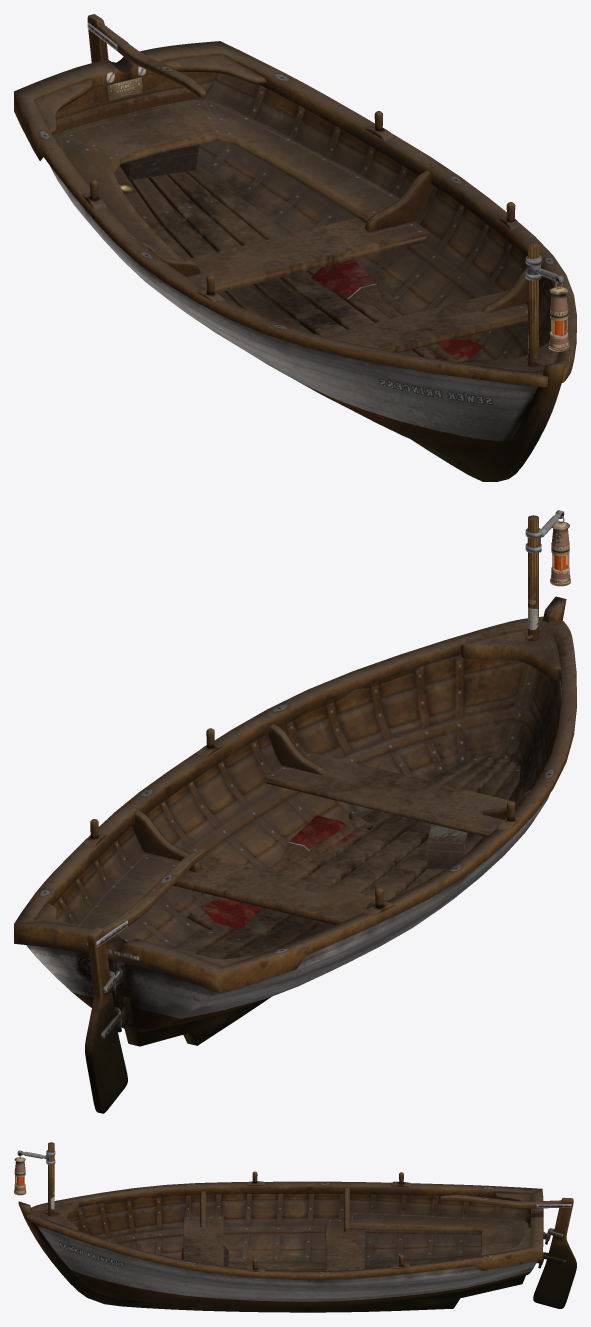
3 views of the same model, one above another, from view 1: azimuth 30°, elevation 25°; view 2: azimuth 150°, elevation 25°; view 3: azimuth 270°, elevation 25° (orthographic). The views are drawn at different scales.
Parts seen in each view (by area): view 1: boatfoundation_low, trim_low, rearbench_low, bottomboards_low, benches_low, oar_low, braces_low, rearbraces_low, chest_low, tiller_low, pegs_low, lamppost_low (+3 smaller); view 2: boatfoundation_low, trim_low, benches_low, bottomboards_low, rudder_low, oar_low, rearbench_low, braces_low, bracefront_low, tiller_low, chest_low, pegs_low (+2 smaller); view 3: boatfoundation_low, trim_low, benches_low, rearbench_low, rudder_low, bottomboards_low, tiller_low, pegs_low, bracefront_low, rearbraces_low, braces_low, lamppost_low (+3 smaller).
Part boxes in pixels (x1,y1,x2,y2): boatfoundation_low: [50, 71, 566, 481]; trim_low: [14, 41, 576, 387]; rearbench_low: [56, 99, 399, 260]; bottomboards_low: [114, 163, 479, 452]; benches_low: [184, 217, 527, 352]; oar_low: [311, 259, 483, 362]; braces_low: [140, 170, 527, 312]; rearbraces_low: [34, 55, 266, 134]; chest_low: [120, 144, 198, 180]; tiller_low: [98, 24, 206, 98]; pegs_low: [82, 111, 520, 301]; lamppost_low: [528, 242, 538, 366]; boatfoundation_low: [26, 596, 566, 1046]; trim_low: [14, 616, 576, 993]; benches_low: [173, 751, 514, 925]; bottomboards_low: [173, 755, 520, 959]; rudder_low: [85, 927, 127, 1113]; oar_low: [187, 812, 373, 929]; rearbench_low: [76, 852, 189, 935]; braces_low: [132, 724, 530, 909]; bracefront_low: [460, 629, 560, 680]; tiller_low: [102, 848, 206, 934]; chest_low: [427, 824, 473, 869]; pegs_low: [83, 728, 521, 915]; boatfoundation_low: [18, 1194, 536, 1312]; trim_low: [27, 1181, 543, 1279]; benches_low: [183, 1215, 364, 1270]; rearbench_low: [350, 1212, 528, 1255]; rudder_low: [533, 1197, 576, 1308]; bottomboards_low: [228, 1254, 481, 1270]; tiller_low: [439, 1195, 561, 1208]; pegs_low: [246, 1171, 411, 1272]; bracefront_low: [41, 1202, 78, 1230]; rearbraces_low: [494, 1193, 530, 1252]; braces_low: [200, 1187, 349, 1231]; lamppost_low: [48, 1142, 54, 1216].
Size of the model in its own units: 0.7775 by 0.6558 by 2.
Materials: 2 (1 with a texture image).
